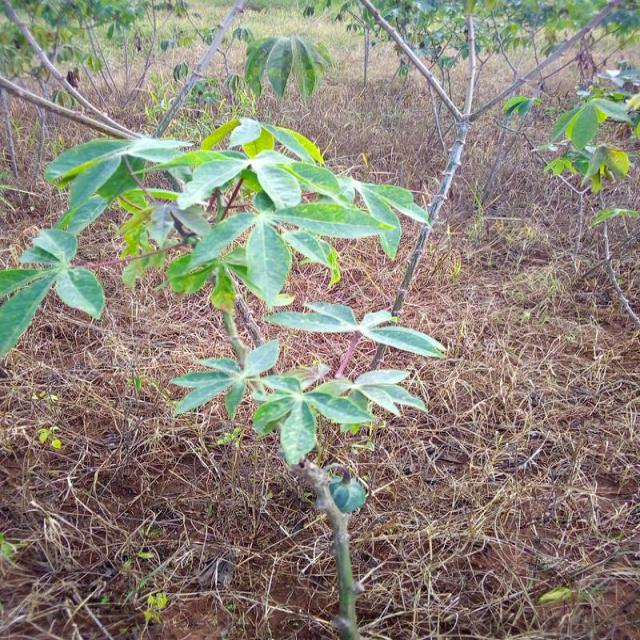cassava leaf: (1, 114, 446, 477)
